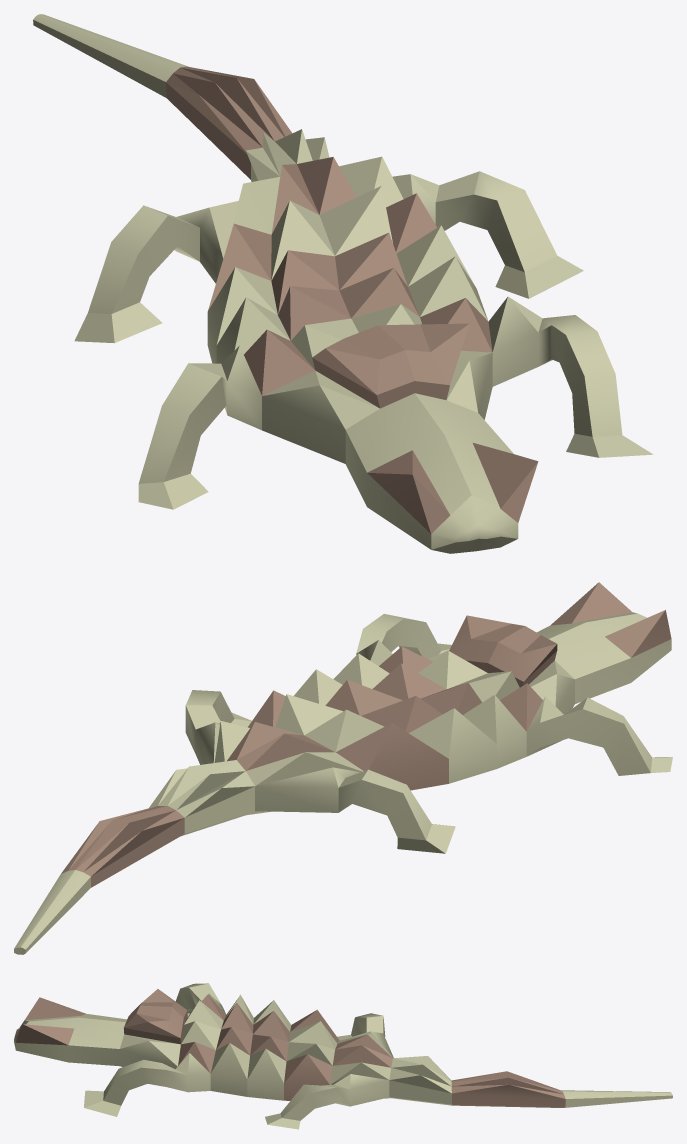
Rendered from Throny_Devil.fbx.
3 renders of one model, top to bottom at view 1: azimuth 30°, elevation 25°; view 2: azimuth 150°, elevation 25°; view 3: azimuth 270°, elevation 25°, orthographic. The views are drawn at different scales.
Visible parts, largest first — view 1: Thorny_Devil; view 2: Thorny_Devil; view 3: Thorny_Devil.
Part boxes in pixels (<box>): Thorny_Devil: <box>33,14,653,553</box>; Thorny_Devil: <box>14,582,672,954</box>; Thorny_Devil: <box>14,983,672,1129</box>.
Size of the model in its own units: 4.9 by 1.15 by 10.38.
